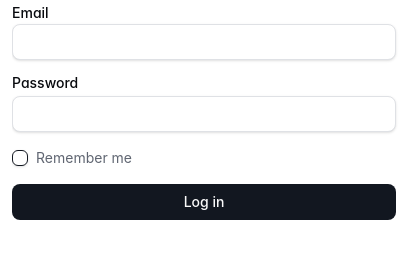
LoginForm › shows a validation error for an invalid email
Type "not-an-email" into the field labelled "Email".
click(204, 42); type("not-an-email")  # box [12, 24, 396, 60]
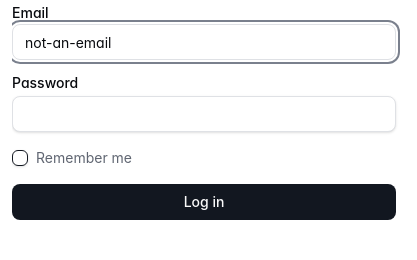
Type "secret" into the password field labelled "Password".
click(204, 114); type("secret")  # box [12, 96, 396, 132]
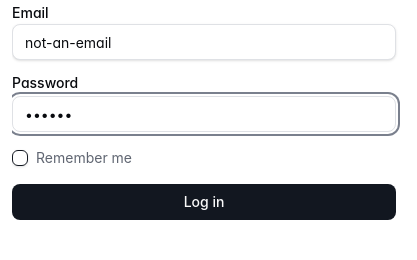
Click the button "Log in".
click(204, 202)  # box [12, 184, 396, 220]
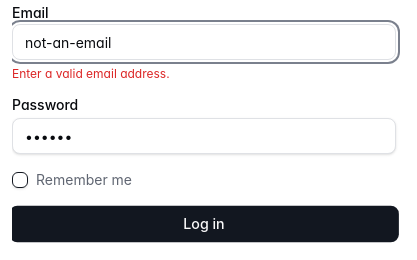
Result: the text "Enter a valid email address." is shown at [12, 66, 170, 81]
